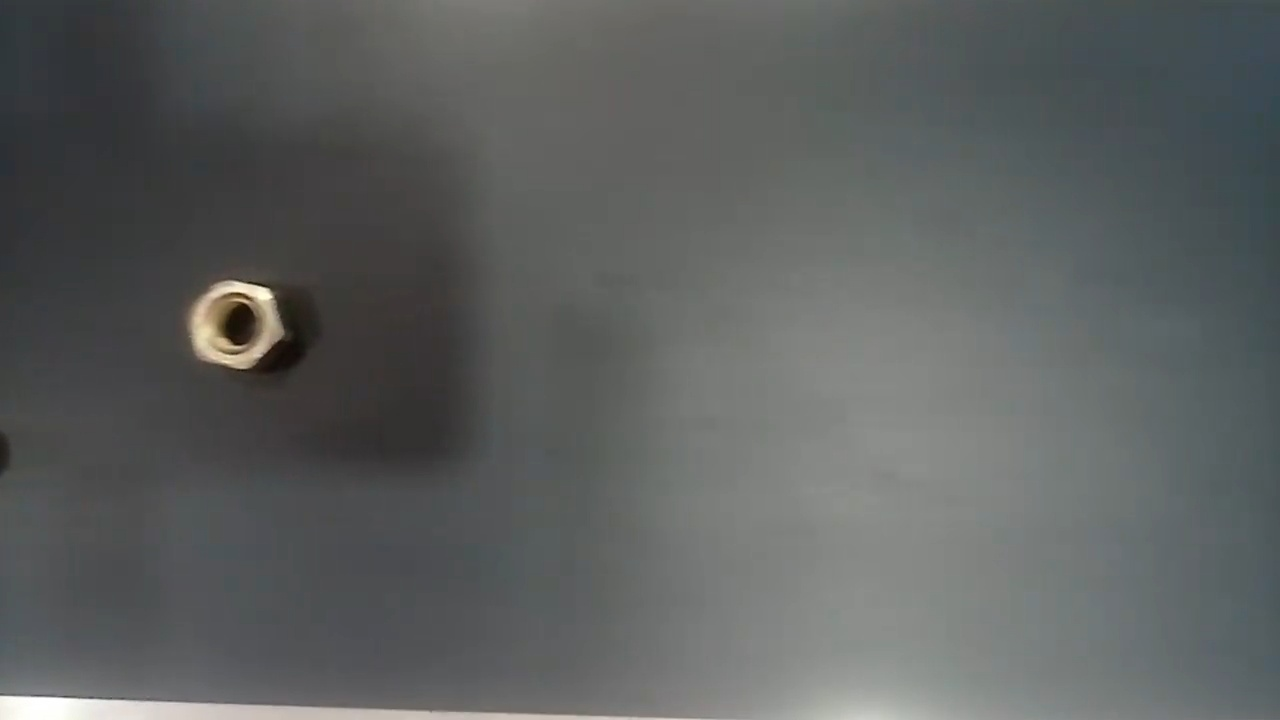Bolt: (183, 274, 297, 376)
